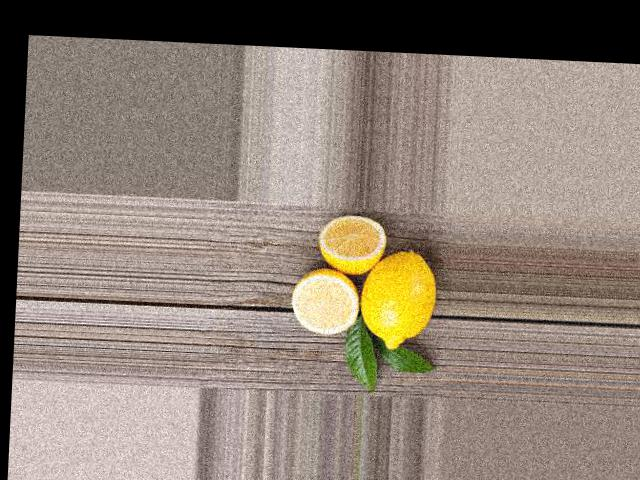lemon: (355, 232, 450, 357)
